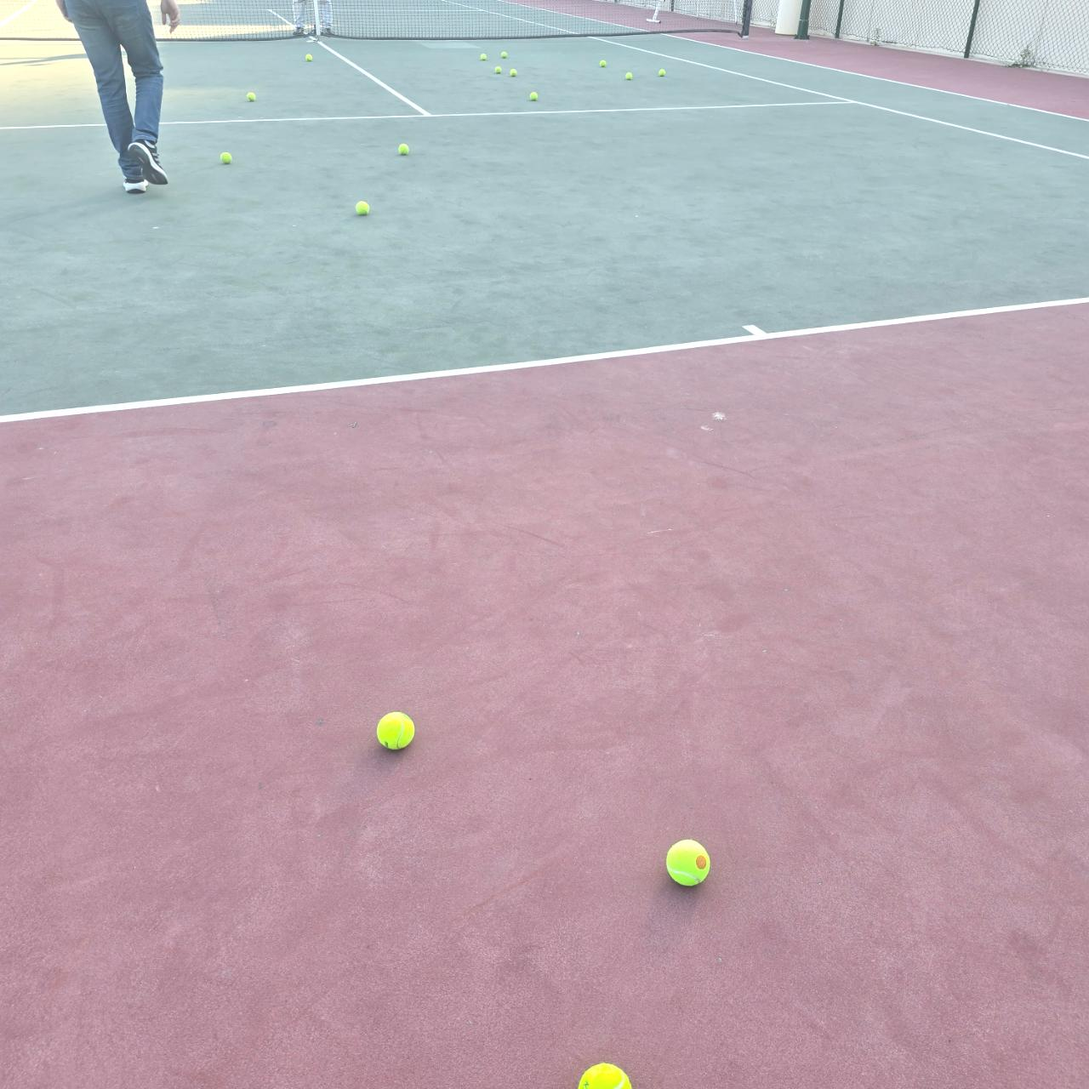tennis-ball: (665, 837, 712, 887), (376, 709, 417, 750), (579, 1060, 632, 1088), (356, 198, 371, 215), (398, 143, 410, 155), (220, 152, 232, 163), (247, 92, 256, 102), (529, 92, 538, 101), (658, 69, 666, 77), (305, 53, 312, 61), (480, 53, 487, 61), (495, 66, 502, 74), (510, 69, 517, 77), (625, 72, 632, 80), (600, 60, 607, 67), (501, 52, 507, 59)
